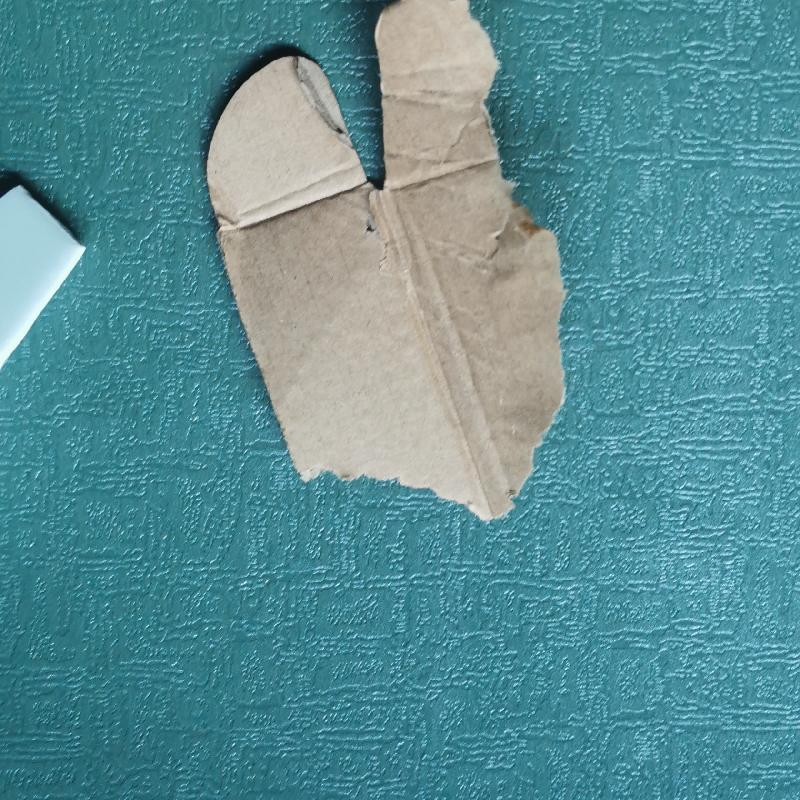boxes: (179, 23, 585, 537)
